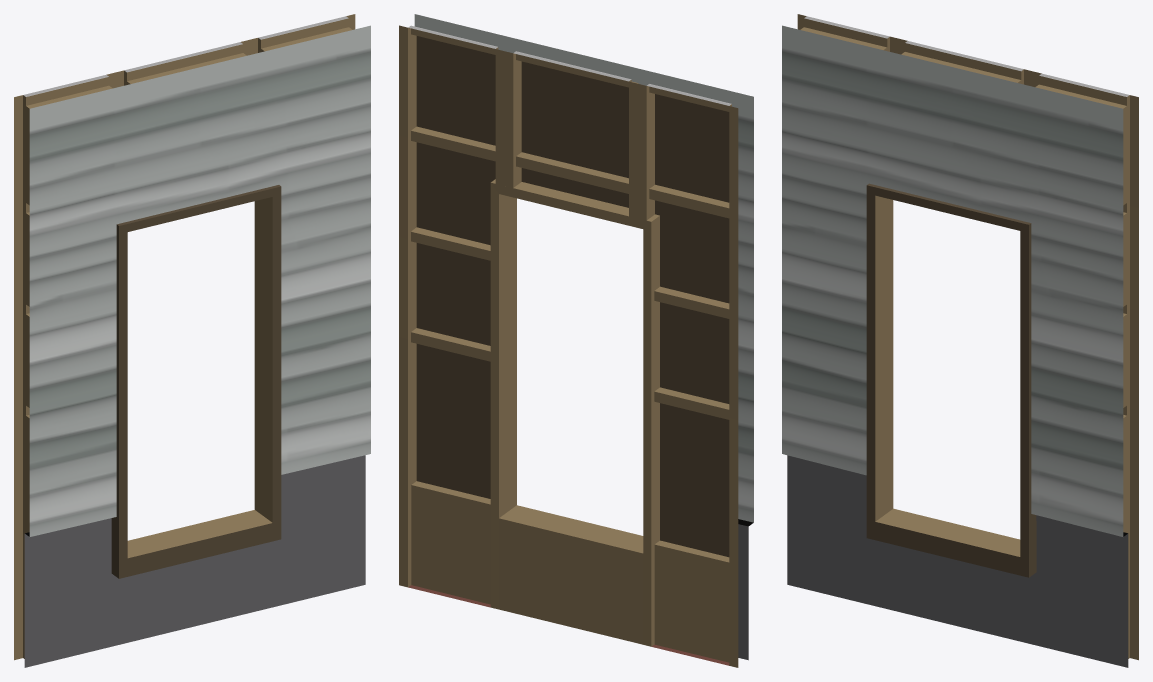
The model's file is SM_Bld_House_ExteriorWall_GarageDoor_02.fbx.
3 views of the same model, side by side, from view 1: azimuth 30°, elevation 25°; view 2: azimuth 150°, elevation 25°; view 3: azimuth 330°, elevation 25° (orthographic).
Visible parts, largest first — view 1: SM_Bld_House_ExteriorWall_GarageDoor_02; view 2: SM_Bld_House_ExteriorWall_GarageDoor_02; view 3: SM_Bld_House_ExteriorWall_GarageDoor_02.
Boxes of the visible parts, box(x1,y1,x2,y2) form: SM_Bld_House_ExteriorWall_GarageDoor_02: box(14, 14, 370, 667); SM_Bld_House_ExteriorWall_GarageDoor_02: box(399, 14, 753, 667); SM_Bld_House_ExteriorWall_GarageDoor_02: box(782, 14, 1138, 667).
Size of the model in its own units: 250 by 394 by 22.99.
